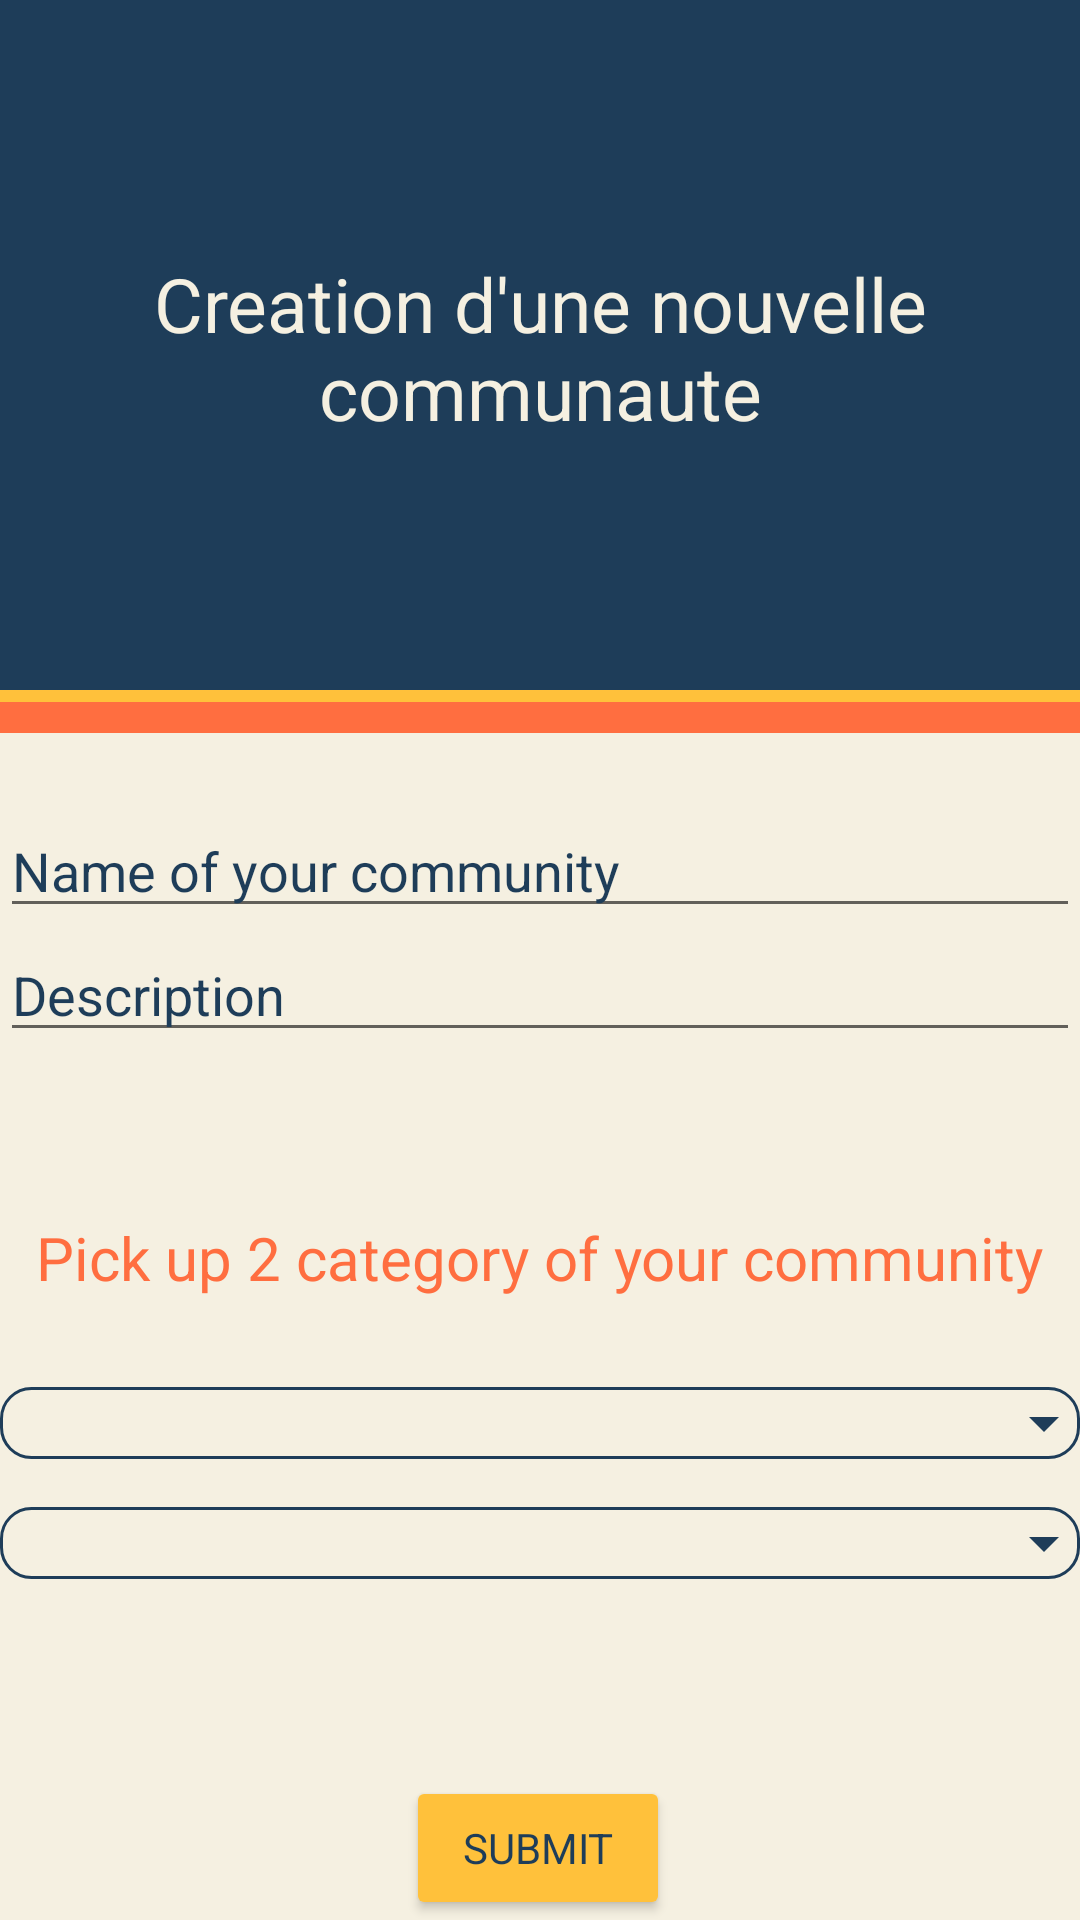

Icon click points for this 1080px x 1920px phone screenshot, format [x,y]:
arrow drop down: [1044,1423], [1044,1543]
